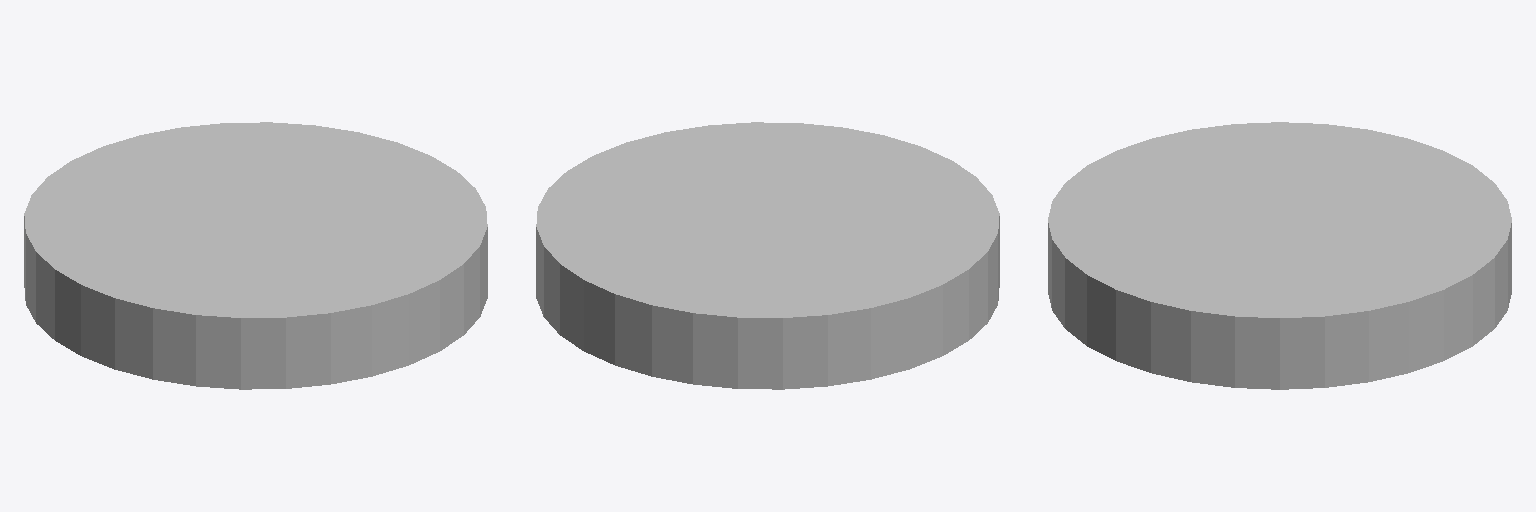
Rendered from carruselBase.obj.
3 renders of one model, left to right at view 1: azimuth 30°, elevation 25°; view 2: azimuth 150°, elevation 25°; view 3: azimuth 270°, elevation 25°, orthographic.
Visible parts, largest first — view 1: Cylinder; view 2: Cylinder; view 3: Cylinder.
Part boxes in pixels (x1,y1,x2,y2): Cylinder: (24, 122, 487, 389); Cylinder: (536, 122, 999, 389); Cylinder: (1048, 122, 1511, 389).
Size of the model in its own units: 2 by 0.3396 by 2.